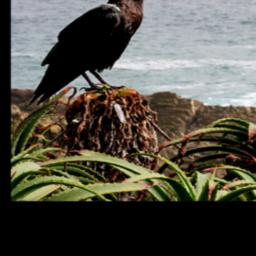Crow: (25, 0, 161, 107)
